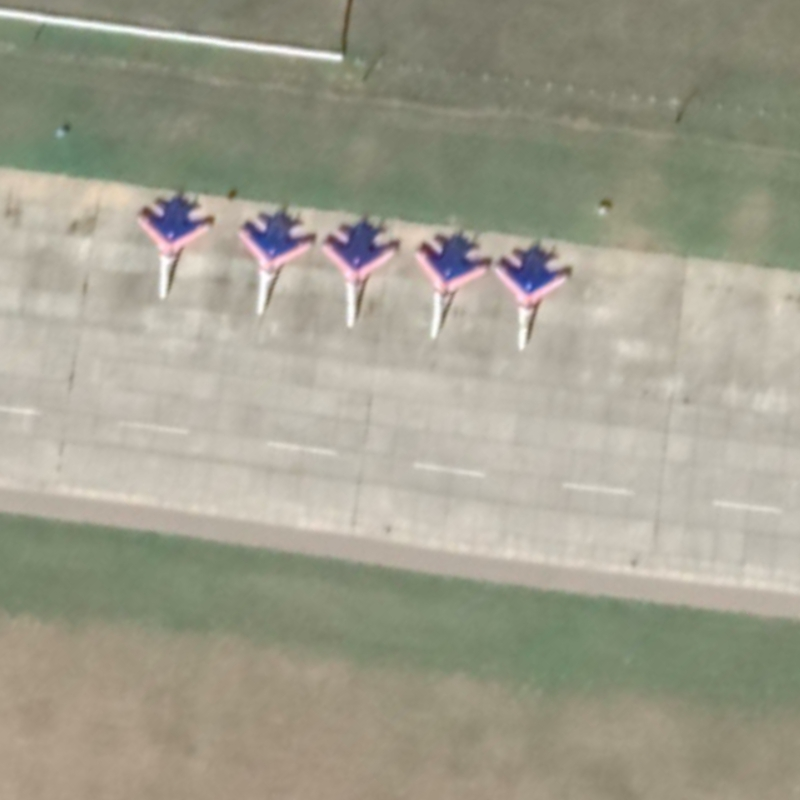A1: (408, 221, 494, 345), (318, 214, 403, 334), (132, 188, 220, 303), (234, 207, 318, 319), (494, 239, 574, 355)
